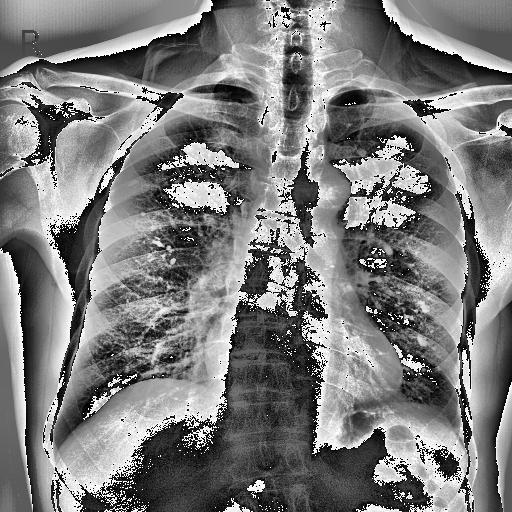0- Aortic enlargement: (298, 164, 350, 207)
13- Pulmonary fibrosis: (88, 213, 176, 294), (401, 296, 440, 374), (140, 236, 178, 267)
2- Calcification: (134, 208, 180, 269), (399, 292, 439, 347)
8- Nodule-Mass: (389, 288, 450, 408), (140, 236, 178, 267), (127, 179, 138, 187)
